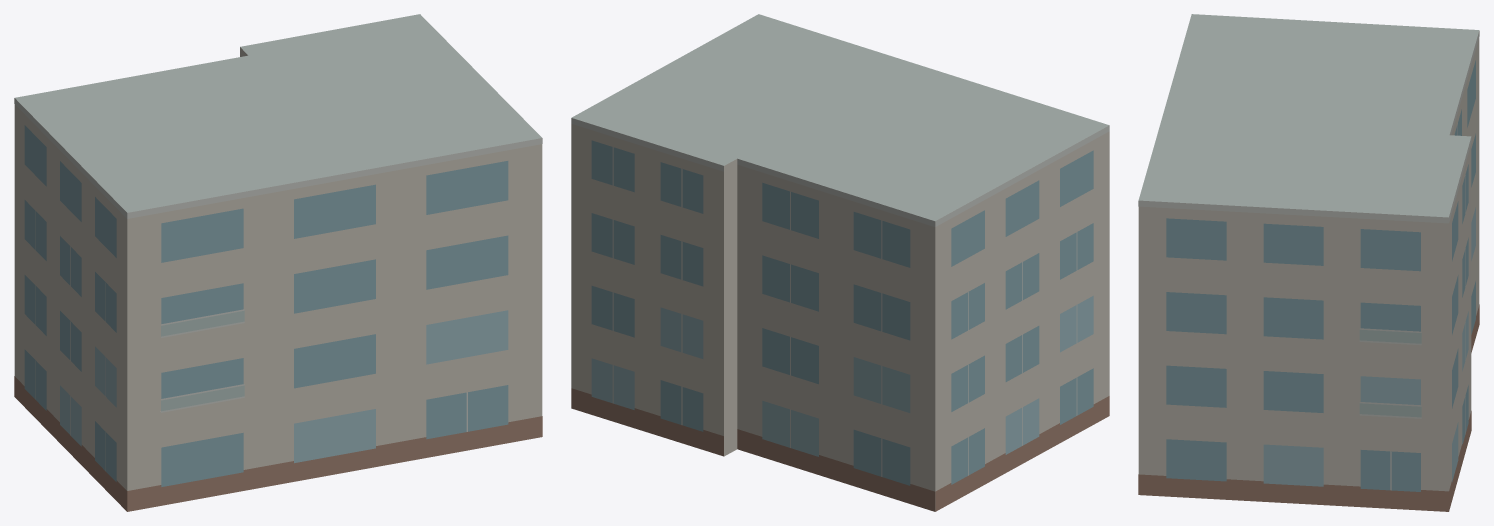
The model's file is survey-upis-32669110.glb.
3 renders of one model, left to right at view 1: azimuth 30°, elevation 25°; view 2: azimuth 150°, elevation 25°; view 3: azimuth 270°, elevation 25°, orthographic. The views are drawn at different scales.
Parts seen in each view (by area): view 1: survey-upis-32669110.tmp; view 2: survey-upis-32669110.tmp; view 3: survey-upis-32669110.tmp.
Part boxes in pixels (x1,y1,x2,y2): survey-upis-32669110.tmp: (14, 14, 542, 511); survey-upis-32669110.tmp: (571, 14, 1109, 511); survey-upis-32669110.tmp: (1138, 14, 1479, 511).
Size of the model in its own units: 17.76 by 11.98 by 12.59.
